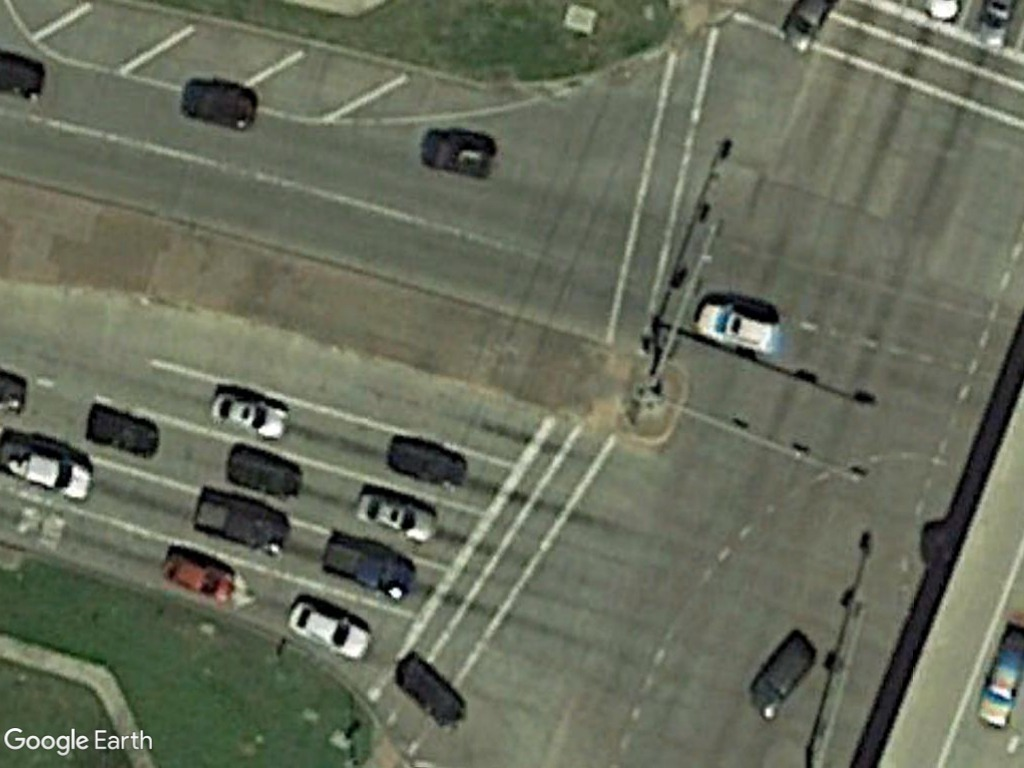car: (280, 590, 376, 663), (693, 294, 787, 359), (347, 487, 445, 547), (205, 387, 299, 445), (155, 548, 241, 606)
other: (0, 430, 97, 508)
